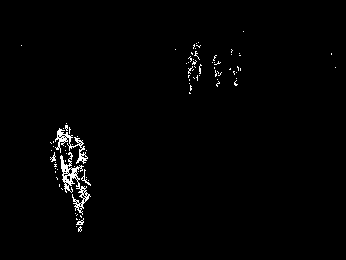person: (50, 125, 90, 233), (187, 40, 202, 95)
